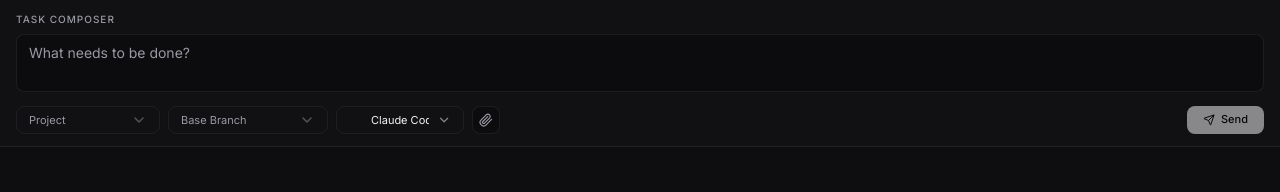
TaskComposer › strips an 'origin/' prefix when matching the configured branchFrom
What coordinates should you click on to do the following:
click the dropdown with test id "composer-project"
I would click on:
 (88, 120)
Its box is [16,106,160,134].
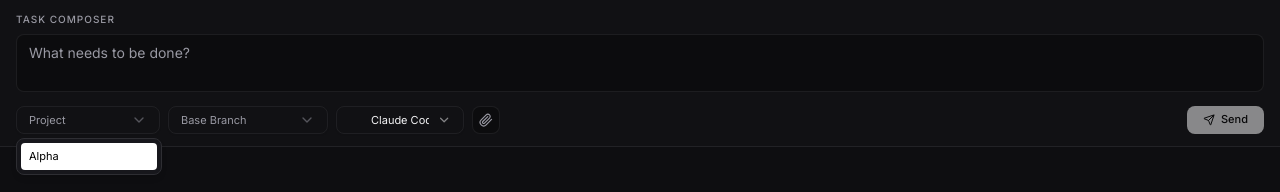
What coordinates should you click on to do the following:
click the option "Alpha"
I would click on:
 (89, 157)
Its box is [21,143,157,170].
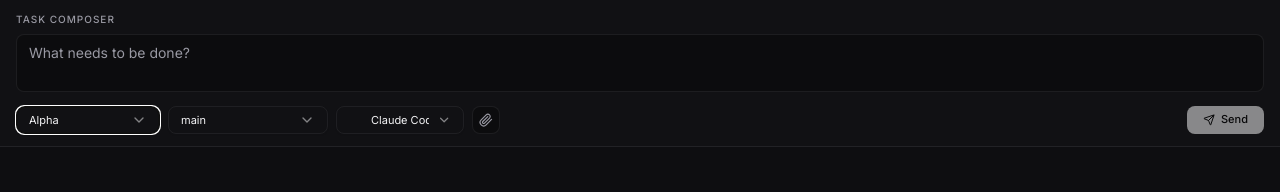
Expected: the dropdown with test id "composer-branch" reads "main", [168,106,328,134]
